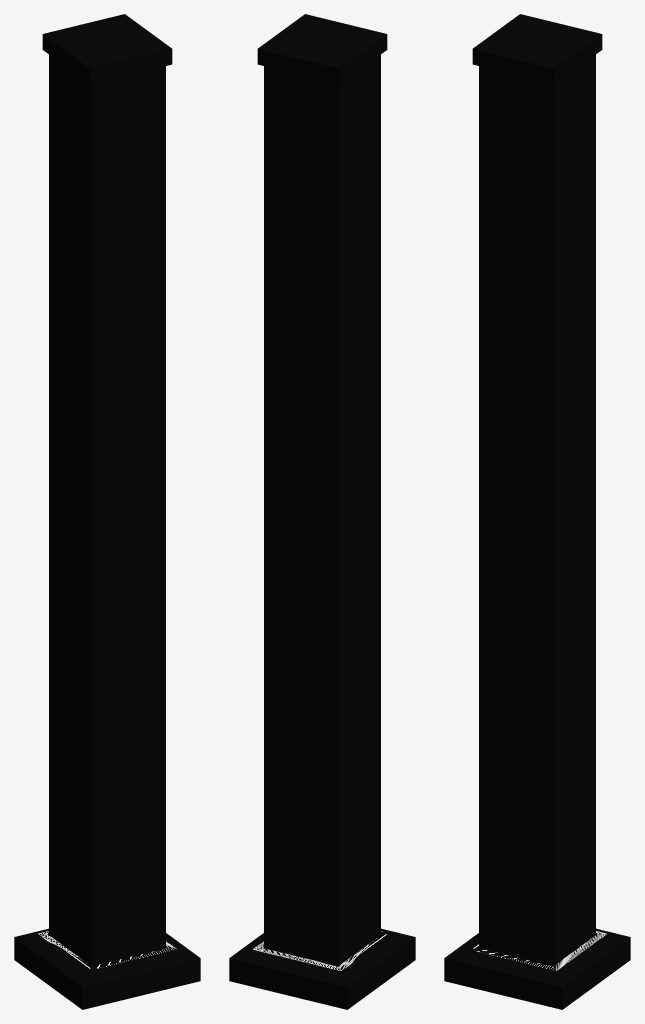
File: acera.obj
3 views of the same model, side by side, from view 1: azimuth 30°, elevation 25°; view 2: azimuth 150°, elevation 25°; view 3: azimuth 330°, elevation 25° (orthographic).
Visible parts, largest first — view 1: Cube_002; view 2: Cube_002; view 3: Cube_002.
Boxes of the visible parts, left/top/right/bottom form: Cube_002: left=14, top=14, right=200, bottom=1009; Cube_002: left=229, top=14, right=415, bottom=1009; Cube_002: left=444, top=14, right=630, bottom=1009.
Bounding box in the file's own units: 1.57 × 11.87 × 1.57.
